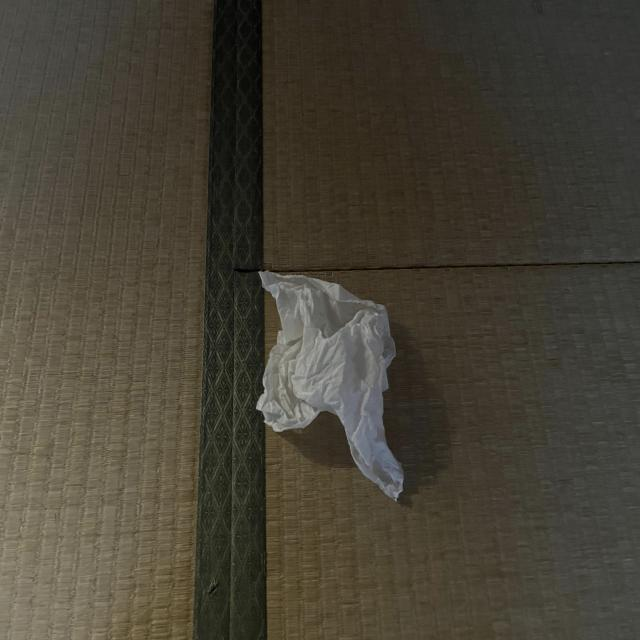Paper: (241, 276, 432, 497)
